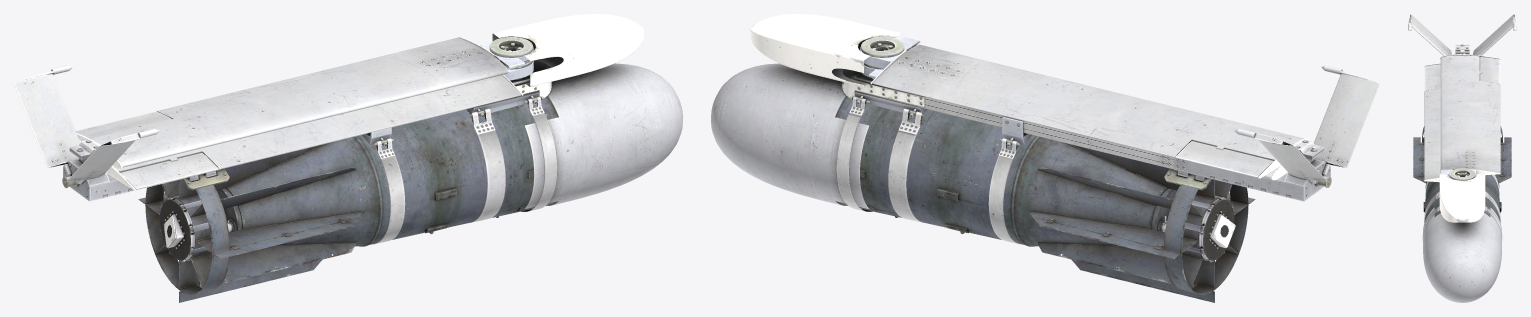
Rendered from fab-3000_umpk.glb.
3 views of the same model, side by side, from view 1: azimuth 30°, elevation 25°; view 2: azimuth 150°, elevation 25°; view 3: azimuth 270°, elevation 25° (orthographic). The views are drawn at different scales.
Parts seen in each view (by area): view 1: Object_3, Object_2; view 2: Object_3, Object_2; view 3: Object_3, Object_2.
Boxes of the visible parts, box(x1,y1,x2,y2) form: Object_3: box(14, 14, 682, 262); Object_2: box(138, 95, 558, 302); Object_3: box(711, 14, 1379, 262); Object_2: box(835, 94, 1255, 302); Object_3: box(1408, 14, 1516, 302); Object_2: box(1413, 126, 1511, 222).
Size of the model in its own units: 4.53 by 1.55 by 1.14.
Materials: 3 (3 with a texture image).
